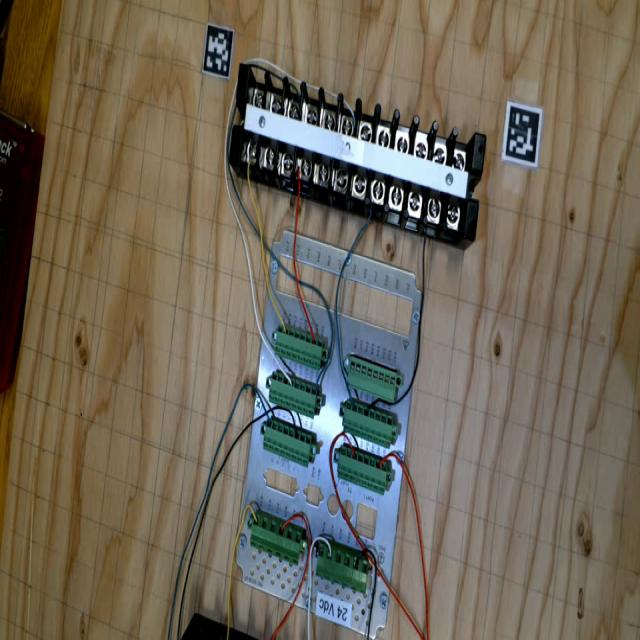Phillips_Block: (210, 56, 507, 241)
Terminal_1: (307, 539, 377, 594), (242, 512, 311, 566)
Terminal_2: (329, 444, 396, 496), (335, 399, 401, 449), (256, 417, 320, 468), (262, 370, 324, 419), (268, 324, 330, 371)
